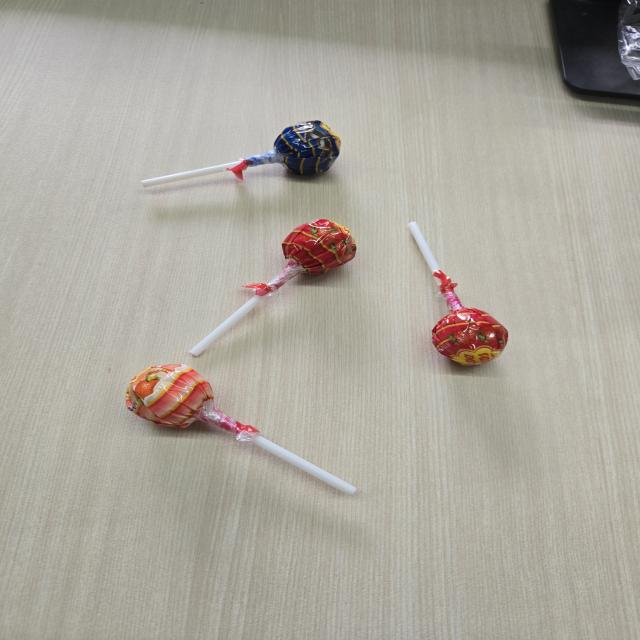lollipop: (123, 362, 364, 499), (182, 216, 362, 361), (402, 217, 512, 371), (141, 118, 344, 188)
